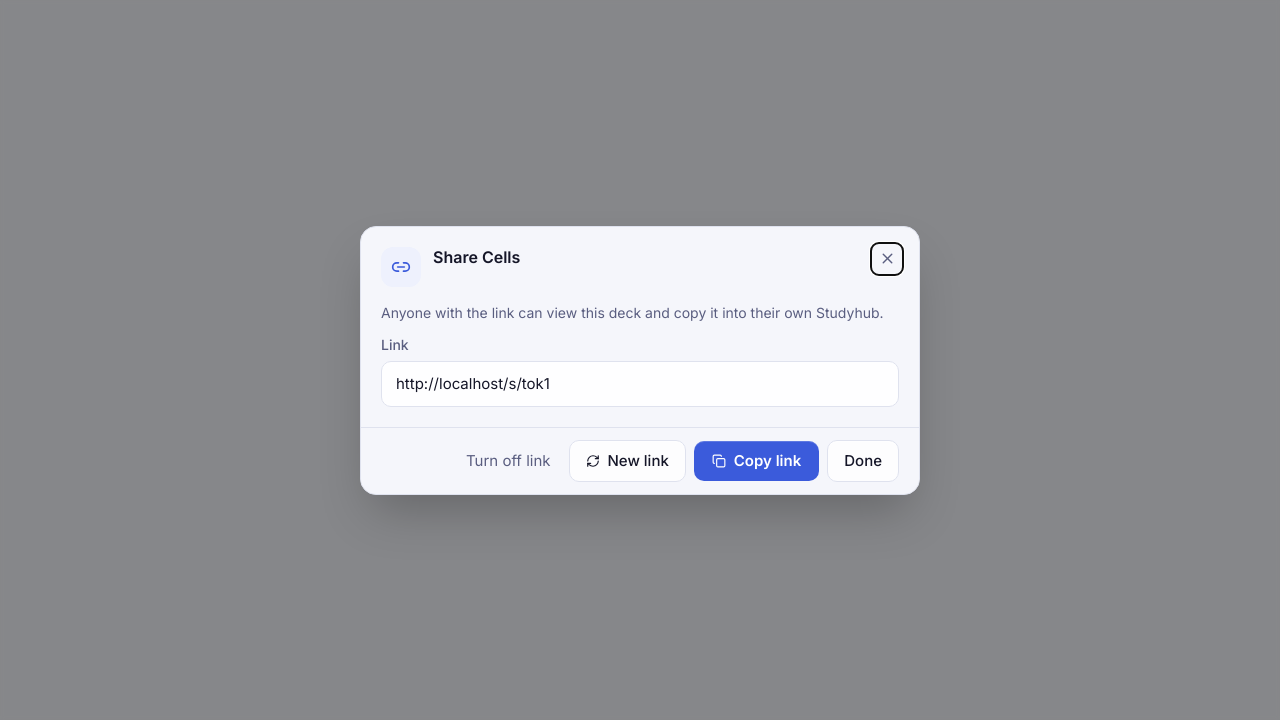
Scenario: ShareDialog › Copy link copies it and says so
This screenshot has width=1280, height=720.
Step 1. Click the button "Copy link" → [757, 460], box [694,440,819,480]
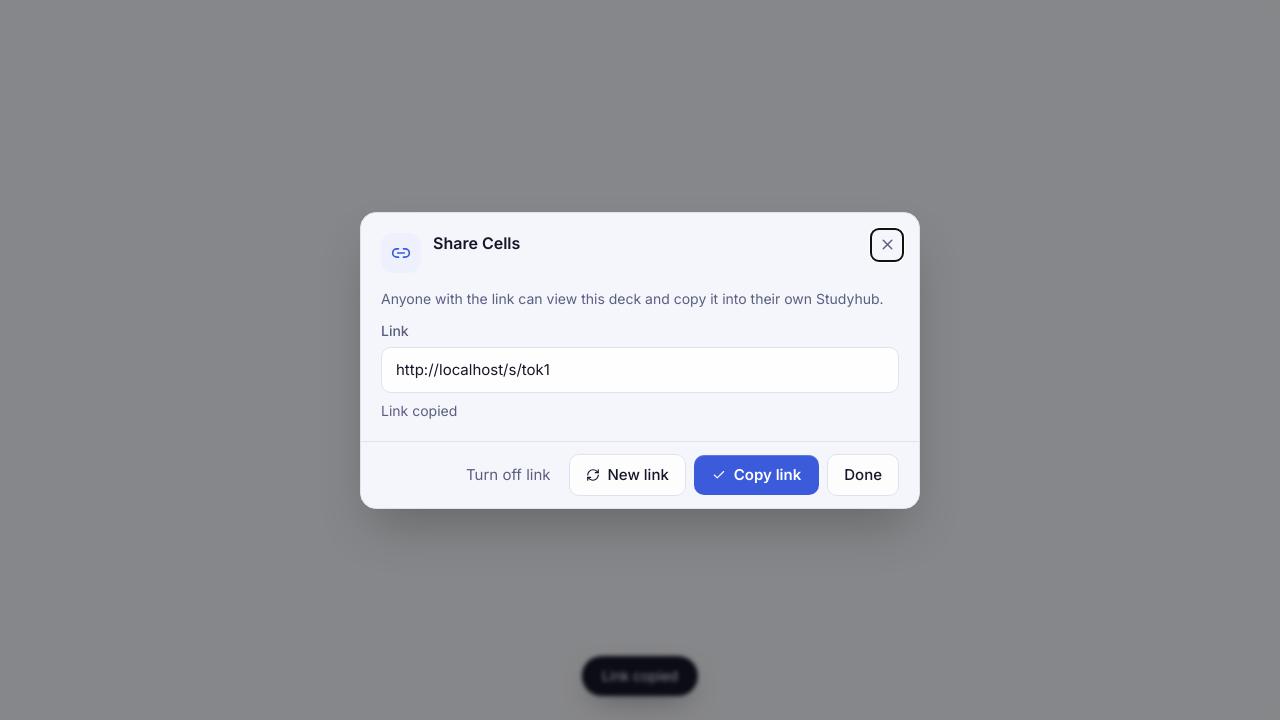
Expected: the message "Link copied" below "Anyone with the link can view this" is shown, [381,402,457,418]
